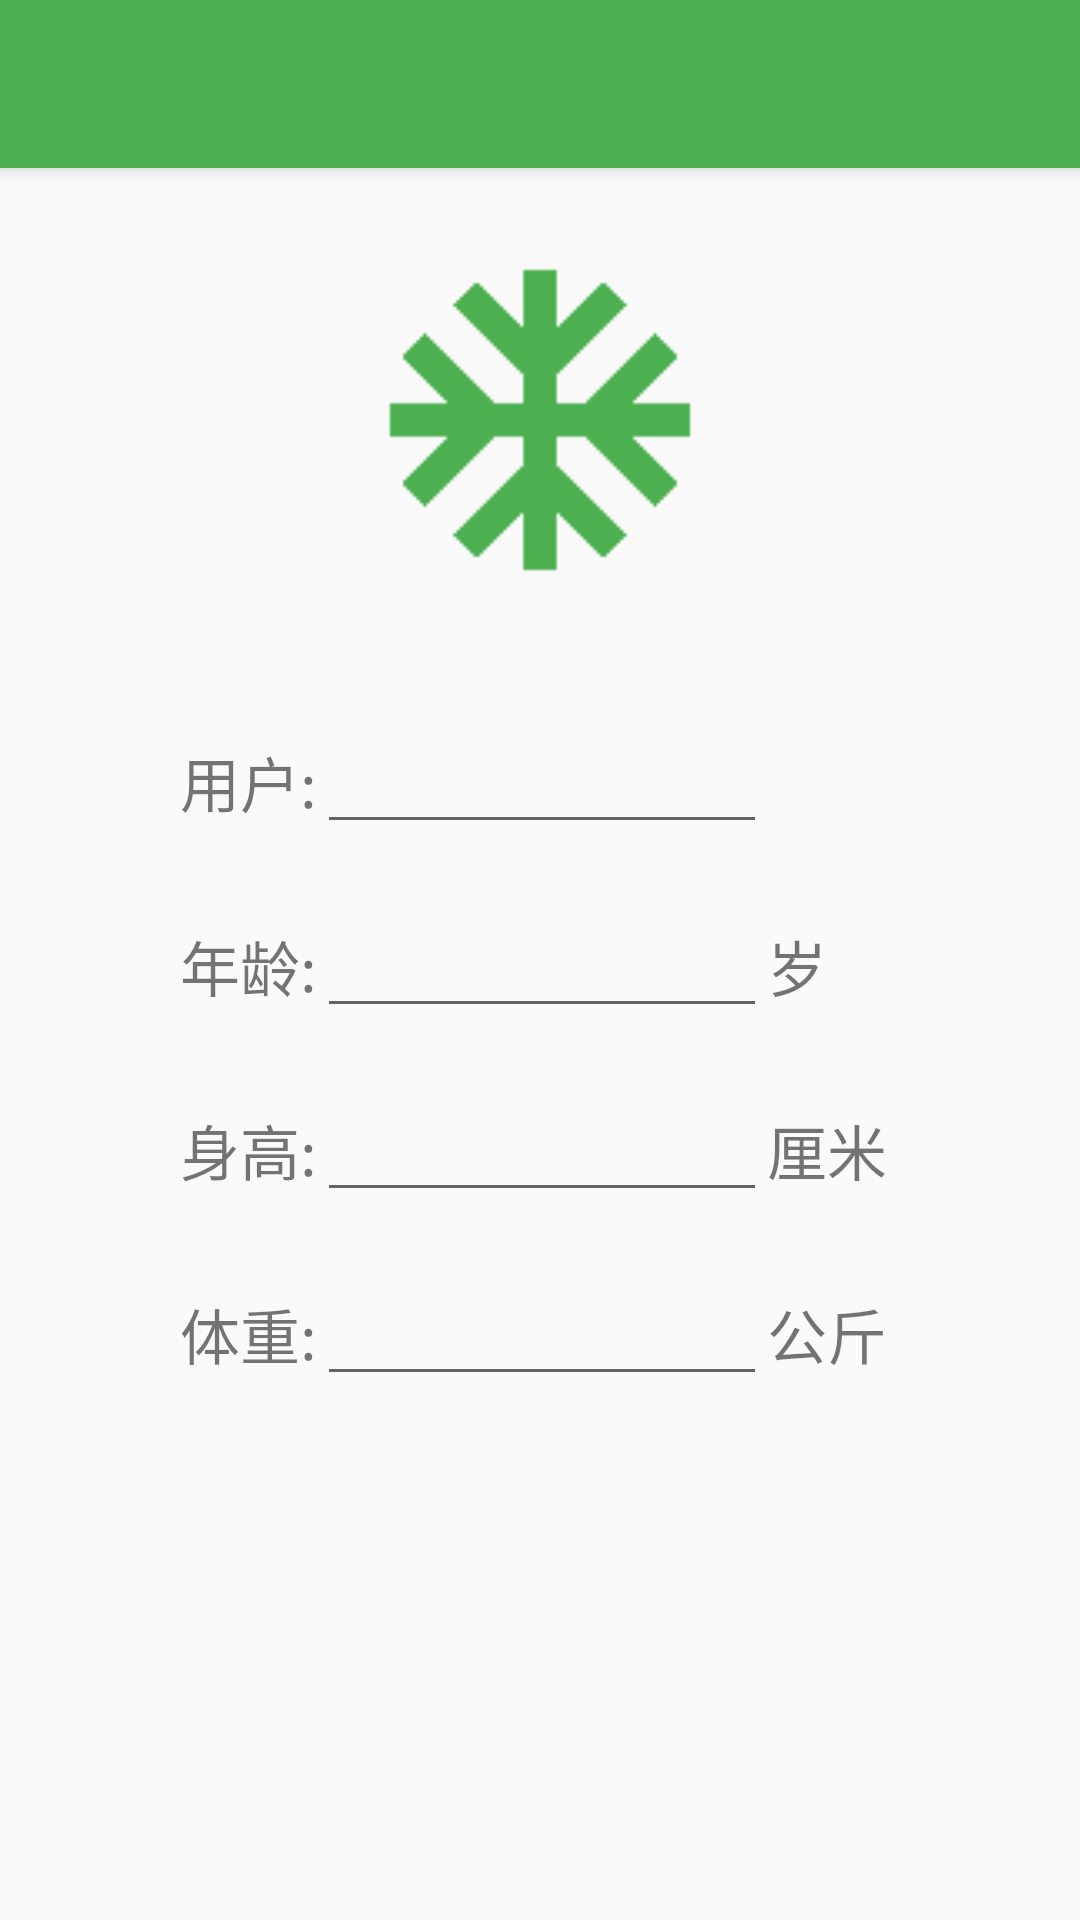

Locate icon controls on the screen. Image size 1080px×1920px, boxes as (x1, y1, x2, y2).
ac unit: (389, 269, 691, 571)
